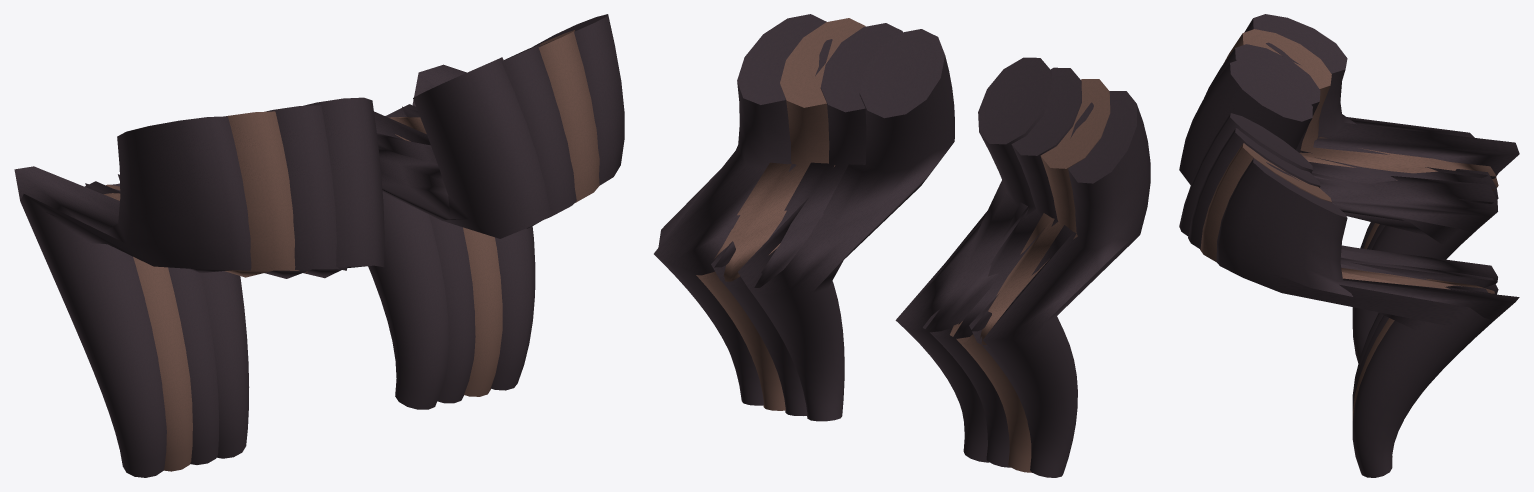
Rendered from facial_forked_default.gltf.
The picture shows the model from 3 angles, left to right: view 1: azimuth 30°, elevation 25°; view 2: azimuth 150°, elevation 25°; view 3: azimuth 270°, elevation 25°; orthographic projection. The views are drawn at different scales.
Visible parts, largest first — view 1: Forked Beard default; view 2: Forked Beard default; view 3: Forked Beard default.
Boxes of the visible parts, box(x1,y1,x2,y2) form: Forked Beard default: box(14, 14, 624, 477); Forked Beard default: box(654, 14, 1150, 477); Forked Beard default: box(1179, 14, 1519, 477).
Size of the model in its own units: 0.1587 by 0.1332 by 0.1296.
Materials: 2 (2 with a texture image).
